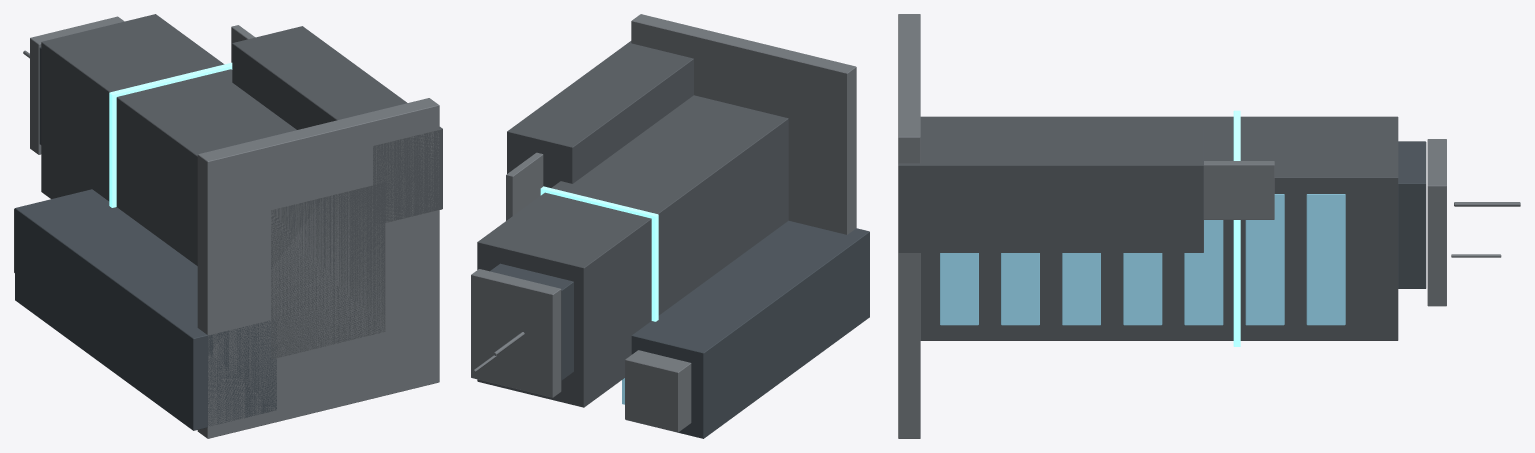
Rendered from mass_tower_cluster_yard_l.glb.
3 views of the same model, side by side, from view 1: azimuth 30°, elevation 25°; view 2: azimuth 150°, elevation 25°; view 3: azimuth 270°, elevation 25° (orthographic). The views are drawn at different scales.
Parts seen in each view (by area): view 1: FlightKit_MassTower_yard_L; view 2: FlightKit_MassTower_yard_L; view 3: FlightKit_MassTower_yard_L.
Boxes of the visible parts, bbox=[...] form: FlightKit_MassTower_yard_L: bbox=[14, 14, 442, 438]; FlightKit_MassTower_yard_L: bbox=[471, 14, 869, 438]; FlightKit_MassTower_yard_L: bbox=[898, 14, 1520, 438].
Bounding box in the file's own units: 11.3 × 12 × 22.4.
